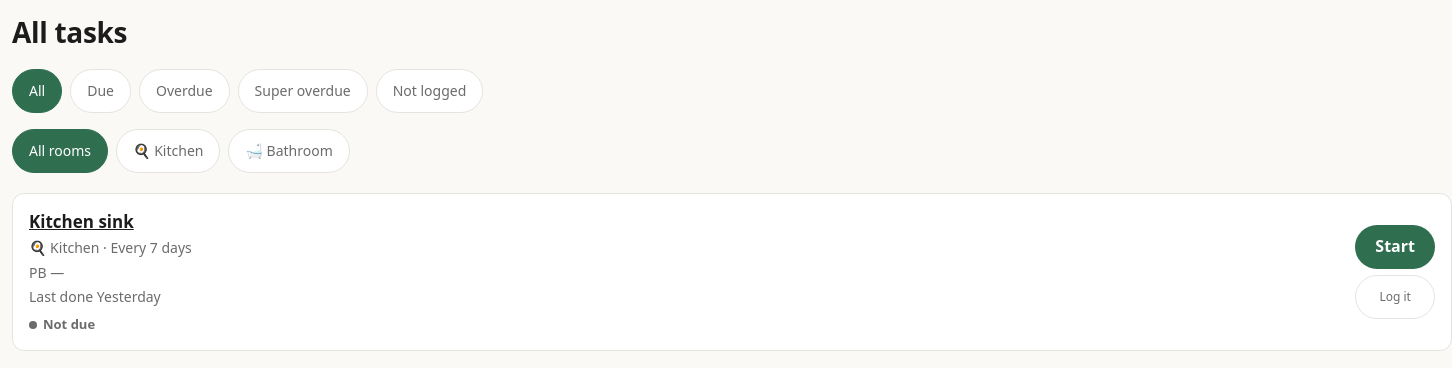
Scenario: Tasks page › combines the not-logged filter with an empty result and shows the empty state
Click the button "Not logged" at point(430, 91), box [376,69,483,113]
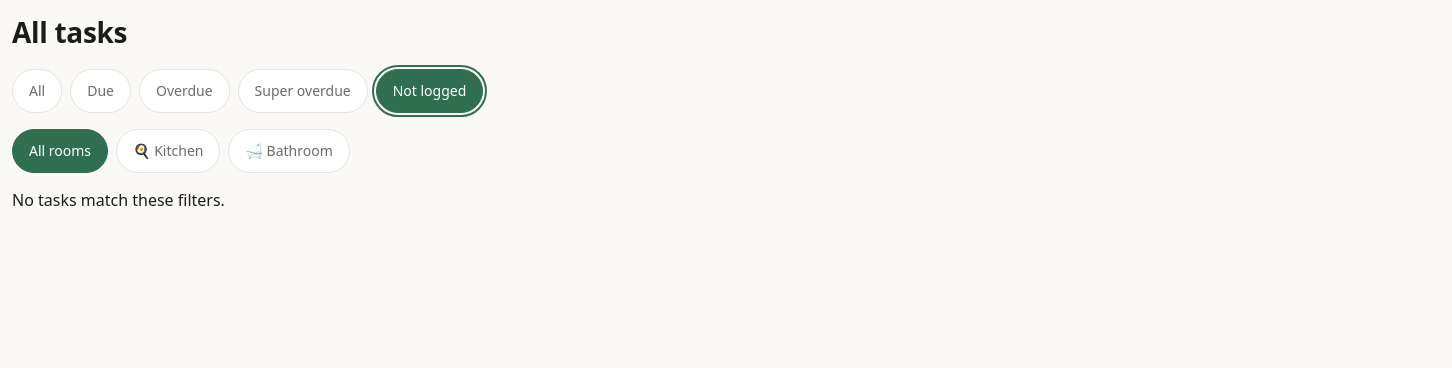
Result: the text "No tasks match these filters." is shown at [12,189,225,211]
